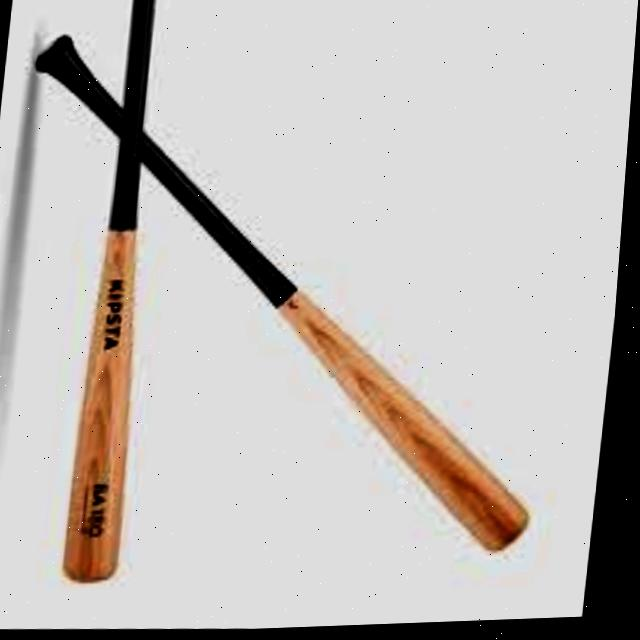baseball bat: (29, 36, 541, 558), (69, 0, 155, 584)
